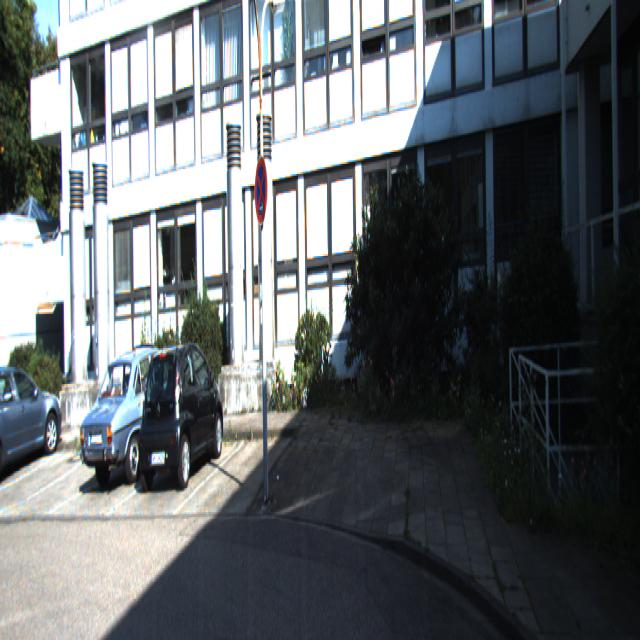Car: (76, 339, 191, 494), (136, 336, 224, 486), (0, 355, 62, 481)
